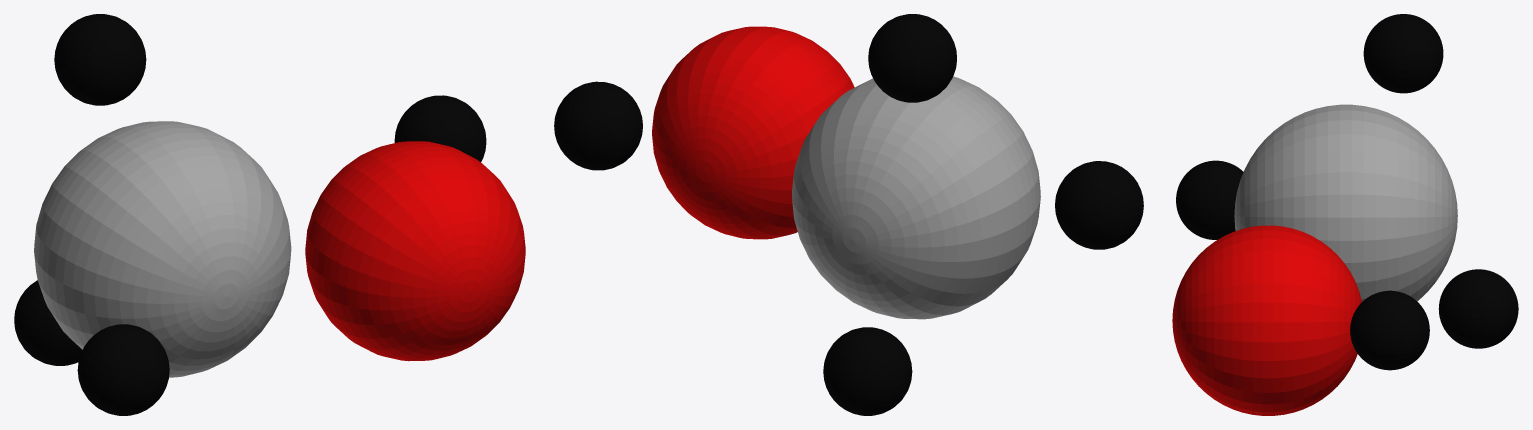
The model's file is Methanol.glb.
The picture shows the model from 3 angles, left to right: view 1: azimuth 30°, elevation 25°; view 2: azimuth 150°, elevation 25°; view 3: azimuth 270°, elevation 25°; orthographic projection. The views are drawn at different scales.
Visible parts, largest first — view 1: world; view 2: world; view 3: world.
Part boxes in pixels (x1=…): world: x1=14, y1=14, x2=525, y2=415; world: x1=554, y1=14, x2=1143, y2=415; world: x1=1172, y1=14, x2=1518, y2=415.
Bounding box in the file's own units: 3.12 × 2.25 × 2.17.
